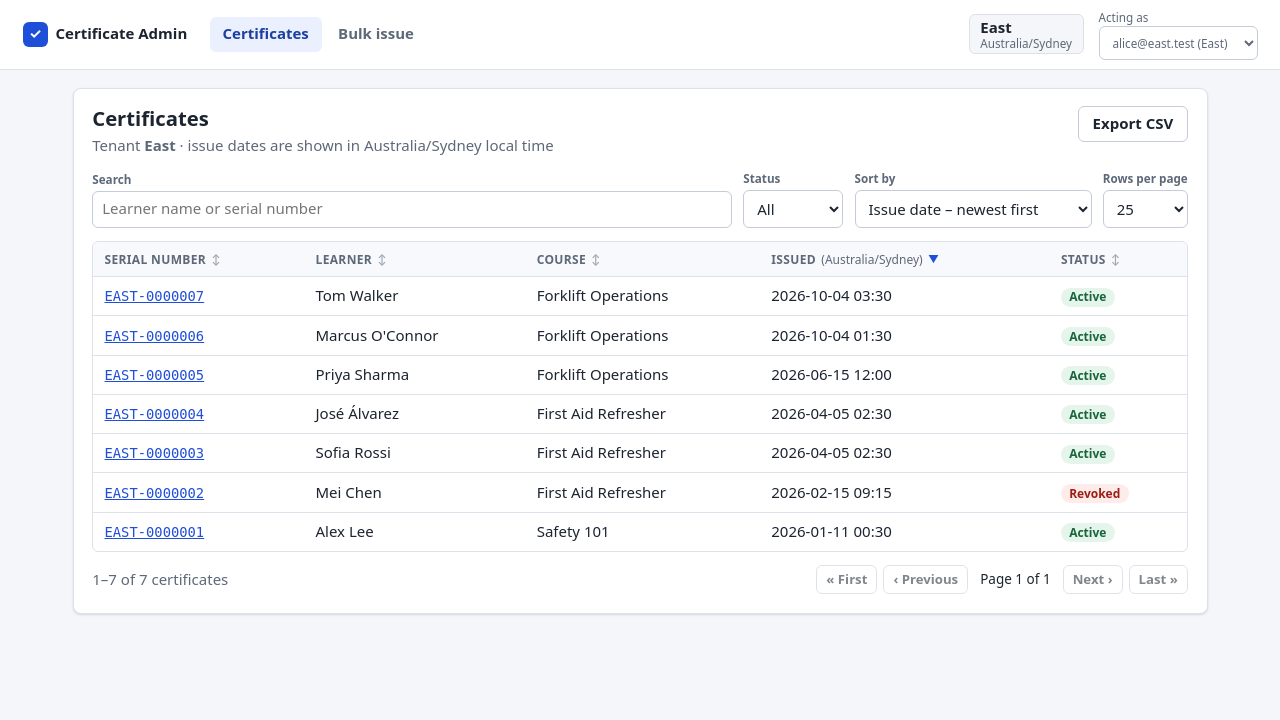
Test: Certificate detail › opens from a row of the list and closes again
The image size is (1280, 720).
Click the text "Priya Sharma": (415, 375) [304,355,525,394]
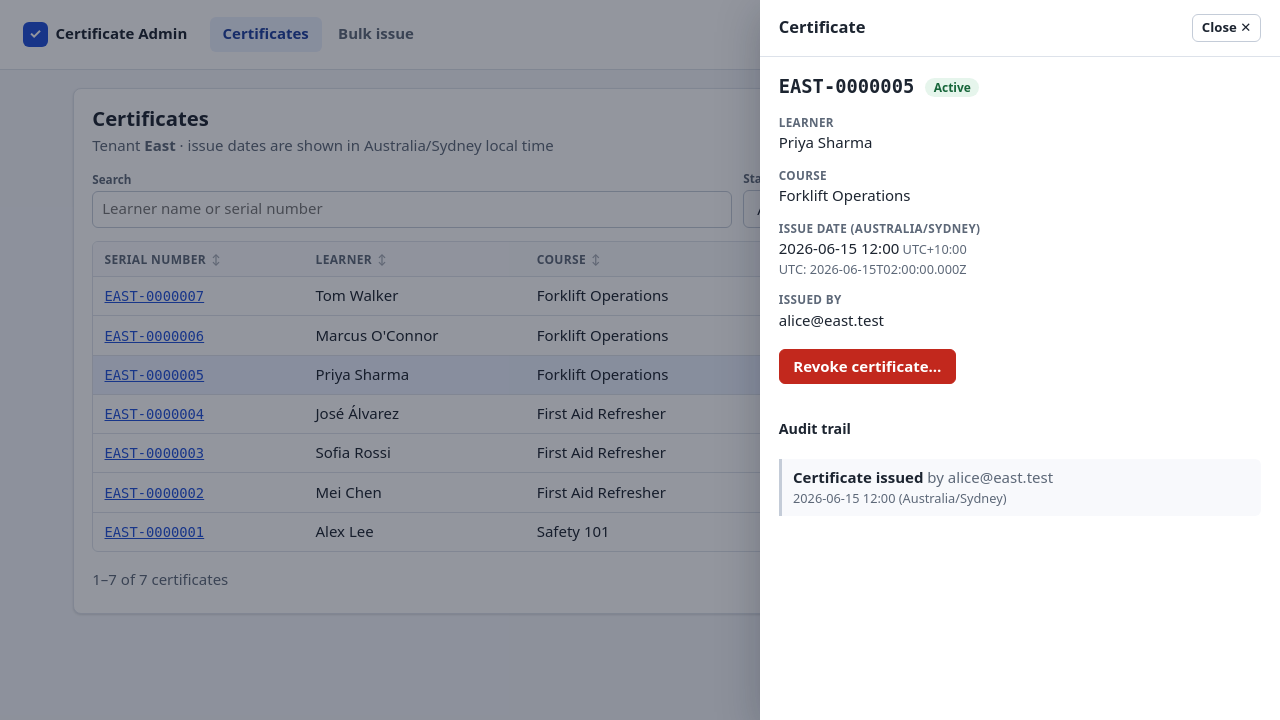
Expected: the text with test id "detail-serial" reads "EAST-0000005", [779,76,914,97]
Click the button with aria-label "Close details": (1226, 28) [1192,14,1261,42]
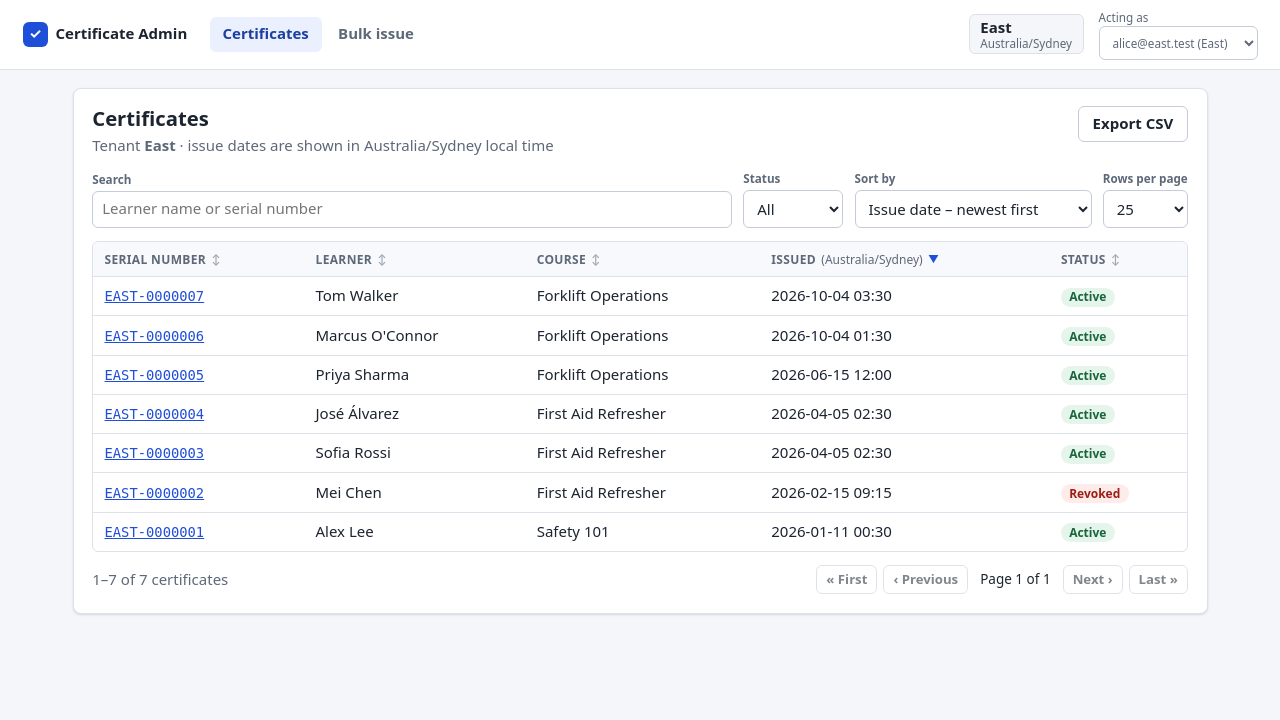
Expected: the dialog is gone
Click the link "EAST-0000003": (154, 453) [104,445,204,461]
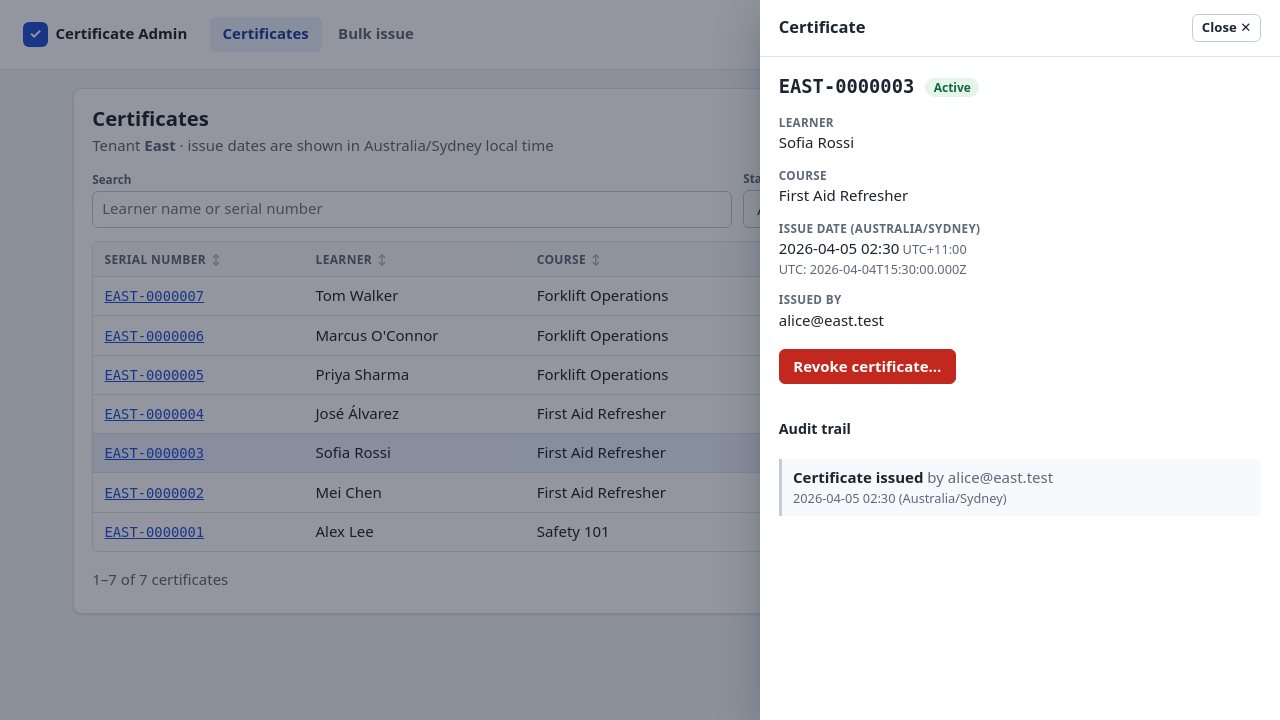
Expected: the text with test id "detail-serial" reads "EAST-0000003", [779,76,914,97]
Press Escape
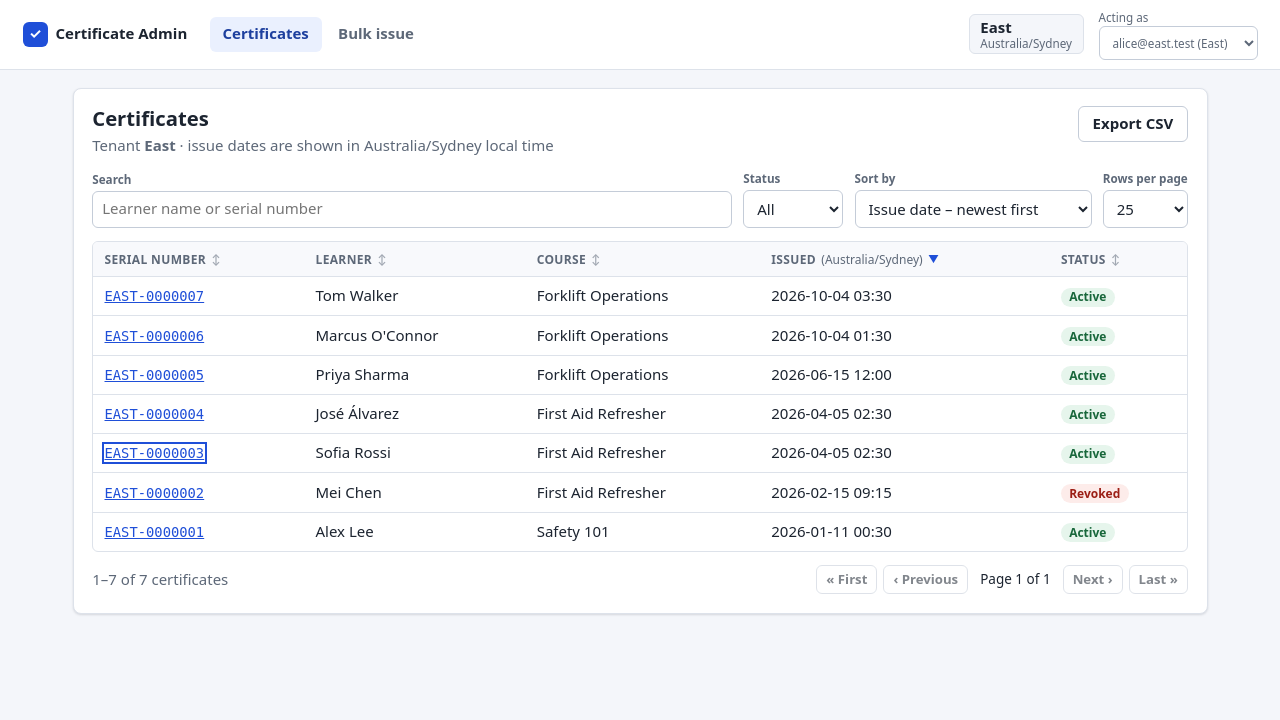
Expected: the dialog is gone
